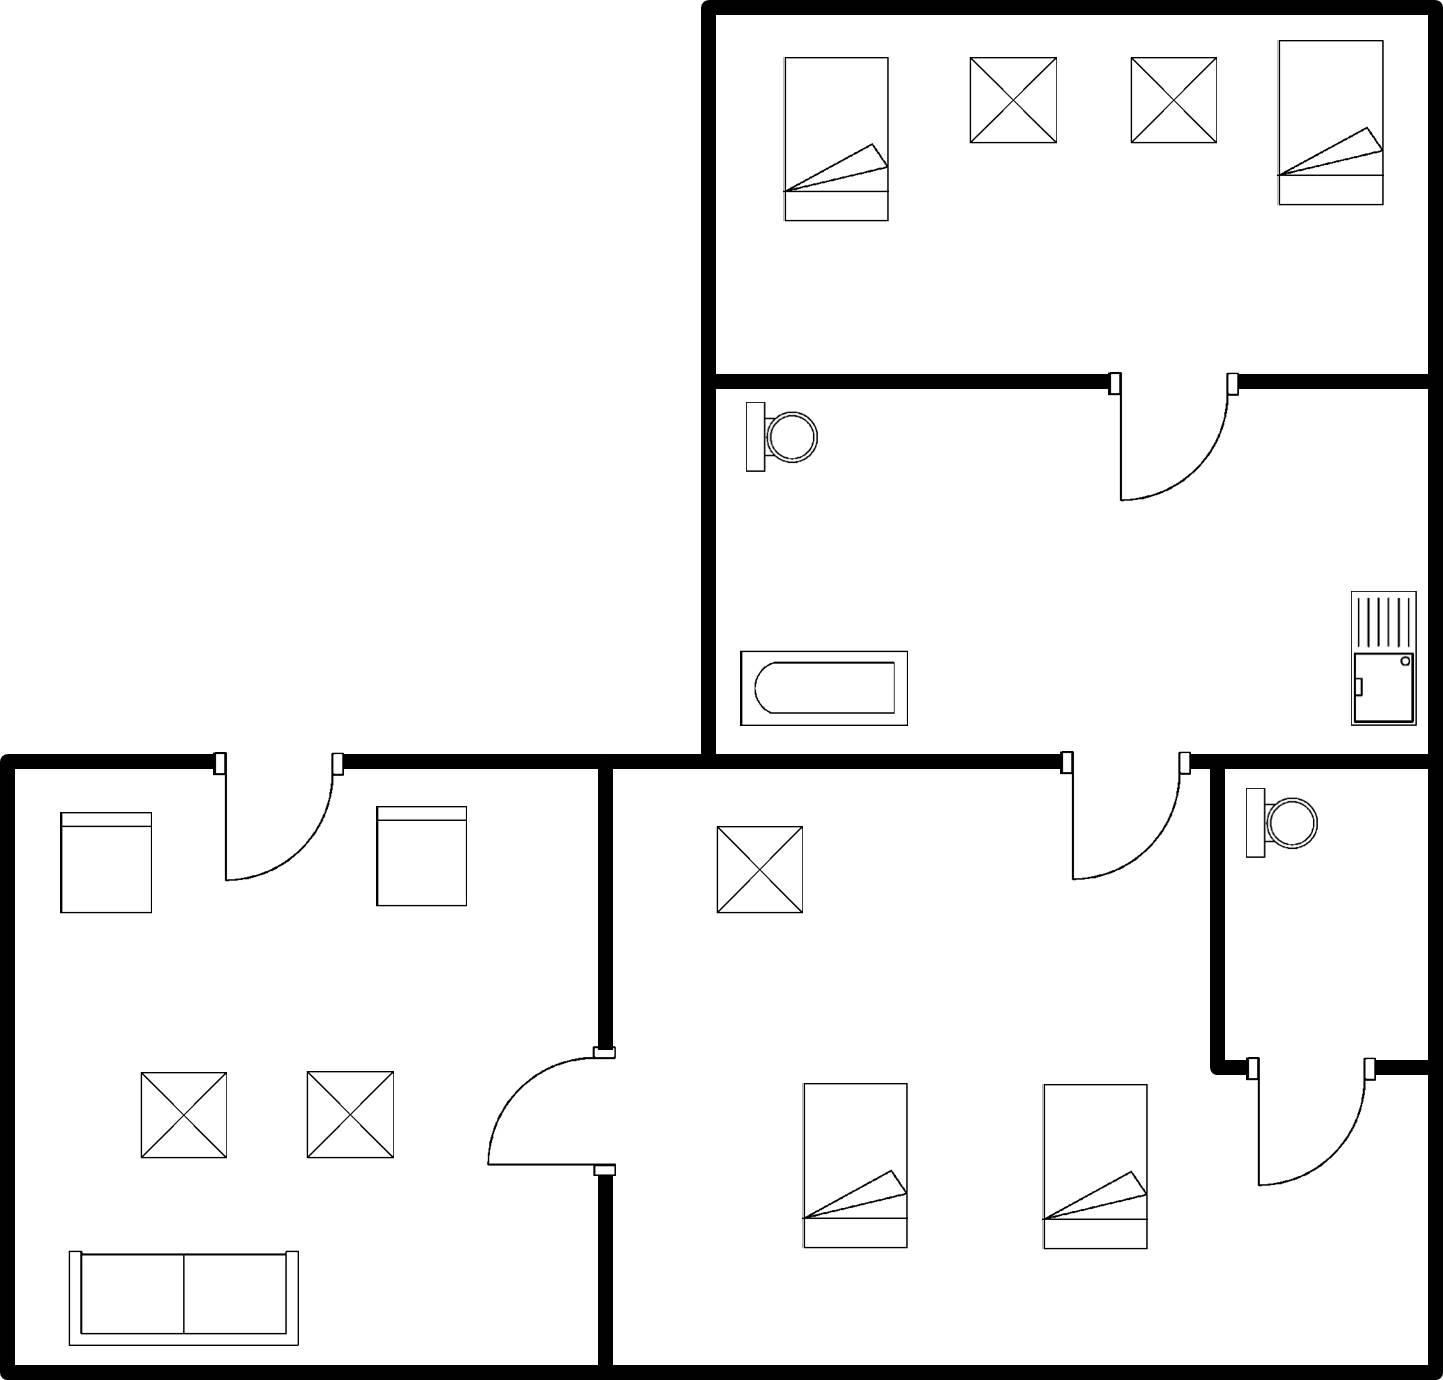bed: (774, 47, 901, 237), (794, 1072, 920, 1261), (1032, 1072, 1158, 1258), (1266, 34, 1393, 218)
coffee_table: (959, 46, 1066, 157), (128, 1061, 238, 1168), (707, 815, 812, 926), (1127, 46, 1231, 158), (297, 1064, 402, 1170)
large_sink: (738, 393, 828, 487), (1235, 778, 1325, 873)
large_sofa: (58, 1239, 308, 1356)
sink: (1342, 578, 1427, 735)
small_sofa: (51, 799, 163, 924), (369, 800, 478, 920)
tub: (730, 641, 916, 739)
